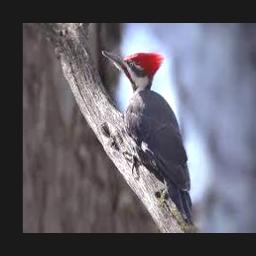Woodpecker: (102, 50, 193, 223)
